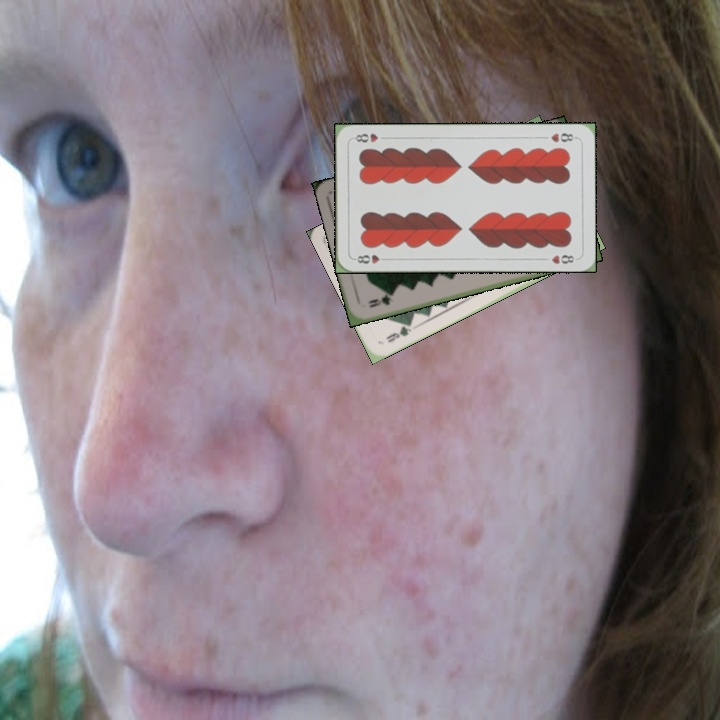G9: (382, 318, 414, 345), (363, 290, 396, 310)
H8: (350, 251, 391, 267), (547, 129, 579, 145)
